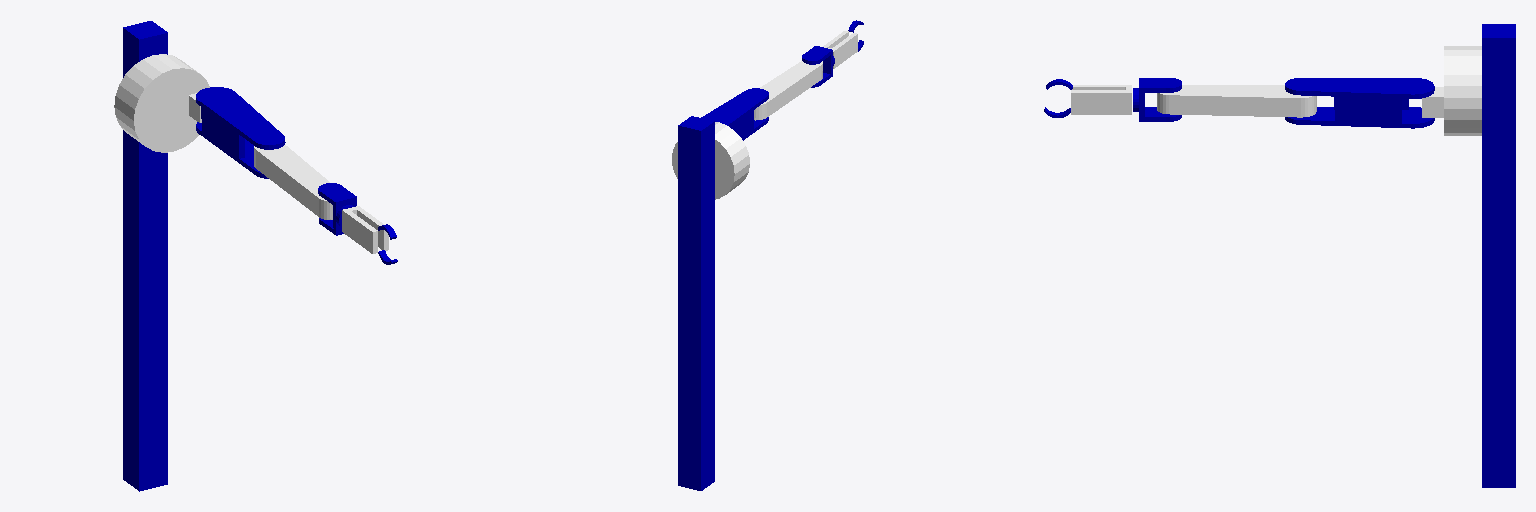
URDF robot description (my_arm):
<?xml version="1.0"?>
<robot name="my_arm">
  <property name="M_PI" value="3.1415926535897931" /> 
  <property name="cam_px" value="0.35" />
  <property name="cam_py" value="0.137" />
  <property name="cam_pz" value="0.1" />

  <material name="blue">
    <color rgba="0 0 .8 1"/>
  </material>
  <material name="black">
    <color rgba="0 0 0 1"/>
  </material>
  <material name="white">
    <color rgba="1 1 1 1"/>
  </material>

  <link name="world"/>

  <link name="support">
    <visual>
        <origin xyz="0 0 0.75" rpy="0 0 0"/>
	<geometry>
	  <box size="0.1 0.1 1.5"/>
	</geometry>
	<material name ="blue"/>
    </visual>
    <collision>
        <origin xyz="0 0 0.75" rpy="0 0 0"/>
	<geometry>
	  <box size="0.1 0.1 1.5"/>
	</geometry>
    </collision>
    <inertial>
      <mass value="0.001"/>
    <inertia ixx="0.01" ixy="0" ixz="0" iyy="0.01" iyz="0" izz="0.01"/>
    </inertial>
  </link>


  <link name="base">
    <visual>
      <origin xyz="0 0 0" rpy="0 0 0"/>
      <geometry>
        <mesh filename="package://my_arm/meshes/1.stl" scale="0.001 0.001 0.001"/>
      </geometry>
      <material name ="white"/>
    </visual>
    <collision>
      <origin xyz="0 0 0" rpy="0 0 0"/>
      <geometry>
        <mesh filename="package://my_arm/meshes/1.stl" scale="0.001 0.001 0.001"/>
      </geometry>
    </collision>
    <inertial>
      <origin rpy="0 0 0" xyz="0.004190989 0.00646279 0.063222557"/>
      <mass value="0.001"/>
    <inertia ixx="0.0125" ixy="0" ixz="0" iyy="0.009" iyz="0" izz="0.009"/>
    </inertial>
  </link>

  <link name="elbow_link">
    <visual>
      <origin xyz="-0.062 -0.051 0.014" rpy="0 0 0"/>
      <geometry>
        <mesh filename="package://my_arm/meshes/2.stl" scale="0.001 0.001 0.001"/>
      </geometry>
      <material name ="blue"/>
    </visual>
    <collision>
      <origin xyz="-0.062 -0.051 0.014" rpy="0 0 0"/>
      <geometry>
        <mesh filename="package://my_arm/meshes/2.stl" scale="0.001 0.001 0.001"/>
      </geometry>
    </collision>
    <inertial>
      <origin rpy="0 0 0" xyz="0.052649582 0.057137184 0.133373611"/>
      <mass value="0.001"/>
    <inertia ixx="0.029" ixy="0" ixz="0" iyy="0.03198" iyz="0" izz="0.220"/>
    </inertial>
  </link>

  <link name="wrist_link">
    <visual>
      <origin xyz="-0.001 -0.064 0" rpy="0 0 0"/>
      <geometry>
        <mesh filename="package://my_arm/meshes/3.stl" scale="0.001 0.001 0.001"/>
      </geometry>
      <material name ="white"/>
    </visual>
    <collision>
      <origin xyz="-0.001 -0.064 0" rpy="0 0 0"/>
      <geometry>
        <mesh filename="package://my_arm/meshes/3.stl" scale="0.001 0.001 0.001"/>
      </geometry>
    </collision>
    <inertial>
      <origin rpy="0 0 0" xyz="-0.008036790 0.031757582 0.188686127"/>
      <mass value="0.001"/>
    <inertia ixx="0.015" ixy="0" ixz="0" iyy="0.238481" iyz="0" izz="0.245072"/>
    </inertial>
  </link>

  <link name="hand_link">
    <visual>
      <origin xyz="-0.037 -0.001 0.092" rpy="0 0 0"/>
      <geometry>
        <mesh filename="package://my_arm/meshes/4.stl" scale="0.001 0.001 0.001"/>
      </geometry>
      <material name ="blue"/>
    </visual>
    <collision>
      <origin xyz="-0.037 -0.001 0.092" rpy="0 0 0"/>
      <geometry>
        <mesh filename="package://my_arm/meshes/4.stl" scale="0.001 0.001 0.001"/>
      </geometry>
    </collision>
    <inertial>
      <origin rpy="0 0 0" xyz="0.028896175 0.036595043 0.087612099"/>
      <mass value="0.001"/>
    <inertia ixx="0.01901" ixy="0" ixz="0" iyy="0.03497" iyz="0" izz="0.028442"/>
    </inertial>
  </link>

  <link name="gripper_link">
    <visual>
      <origin xyz="-0.03 -0.037 0" rpy="0 0 0"/>
      <geometry>
        <mesh filename="package://my_arm/meshes/5.stl" scale="0.001 0.001 0.001"/>
      </geometry>
      <material name ="white"/>
    </visual>
    <collision>
      <origin xyz="-0.03 -0.037 0" rpy="0 0 0"/>
      <geometry>
        <mesh filename="package://my_arm/meshes/5.stl" scale="0.001 0.001 0.001"/>
      </geometry>
    </collision>
    <inertial>
      <origin rpy="0 0 0" xyz="0.028896175 0.036595043 0.087612099"/>
      <mass value="0.0005"/>
    <inertia ixx="0.008693" ixy="0" ixz="0" iyy="0.039554" iyz="0" izz="0.037589"/>
    </inertial>
  </link>

  <link name="finger_link1">
    <visual>
      <origin xyz="0 0 0" rpy="0 0 0"/>
      <geometry>
        <mesh filename="package://my_arm/meshes/6.stl" scale="0.001 0.001 0.001"/>
      </geometry>
      <material name ="blue"/>
    </visual>
    <collision>
      <origin xyz="0 0 0" rpy="0 0 0"/>
      <geometry>
        <mesh filename="package://my_arm/meshes/6.stl" scale="0.001 0.001 0.001"/>
      </geometry>
    </collision>
    <inertial>
      <origin rpy="0 0 0" xyz="0.010424928 0.016705904 0.035355106"/>
      <mass value="0.0005"/>
    <inertia ixx="0.00125" ixy="0" ixz="0" iyy="0.007345" iyz="0" izz="0.007002"/>
    </inertial>
  </link>

  <link name="finger_link2">
    <visual>
      <origin xyz="0 0 0" rpy="0 0 0"/>
      <geometry>
        <mesh filename="package://my_arm/meshes/7.stl" scale="0.001 0.001 0.001"/>
      </geometry>
      <material name ="blue"/>
    </visual>
    <collision>
      <origin xyz="0 0 0" rpy="0 0 0"/>
      <geometry>
        <mesh filename="package://my_arm/meshes/7.stl" scale="0.001 0.001 0.001"/>
      </geometry>
    </collision>
    <inertial>
      <origin rpy="0 0 0" xyz="0.010432852 -0.009562554 0.039894608"/>
      <mass value="1"/>
    <inertia ixx="0.00125" ixy="0" ixz="0" iyy="0.007345" iyz="0" izz="0.007002"/>
    </inertial>
  </link>

  <link name="end">
    <inertial>
      <mass value="0.001"/>
    <inertia ixx="0.01" ixy="0" ixz="0" iyy="0.01" iyz="0" izz="0.01"/>
    </inertial>
  </link>

  <joint name="support_joint" type="fixed">
    <parent link="world" />
    <child link="support" />
    <origin xyz="0 0 0" rpy="0 0 0" />
    <axis xyz="0 0 1" />
  </joint>

  <joint name="base2base_joint" type="continuous">
    <parent link="support" />
    <child link="base" />
    <origin xyz="0 -0.05 1.3" rpy="1.5707963 0 0" />
    <axis xyz="0 0 1" />
  </joint>

  <joint name="base_joint" type="revolute">
    <parent link="base" />
    <child link="elbow_link" />
    <limit effort="30" velocity="1.0" lower="-1.570795" upper="1.570795" />
    <origin xyz="0.101 0 0.207" rpy="0 0 0" />
    <axis xyz="0 1 0" />
  </joint>

  <joint name="elbow_joint" type="revolute">
    <parent link="elbow_link" />
    <child link="wrist_link" />
    <limit effort="30" velocity="1.0" lower="-3.1415926" upper="3.1415926" />
    <origin xyz="-0.014 0.037 0.341" rpy="0 0 0" />
    <axis xyz="0 1 0" />
  </joint>

  <joint name="wrist_joint" type="revolute">
    <parent link="wrist_link" />
    <child link="hand_link" />
    <limit effort="30" velocity="1.0" lower="-3.1415926" upper="3.1415926" />
    <origin xyz="-0.015 -0.088 0.398" rpy="0 0 0" />
    <axis xyz="0 1 0" />
  </joint>

  <joint name="hand_joint" type="continuous">
    <parent link="hand_link" />
    <child link="gripper_link" />
    <limit effort="30" velocity="1.0" lower="-1.570795" upper="1.570795" />
    <origin xyz="0.0 0.056 0.113" rpy="0 0 0" />
    <axis xyz="0 0 1" />
  </joint>

  <joint name="end_joint" type="revolute">
    <parent link="gripper_link" />
    <child link="end" />
    <origin xyz="0 0 0.184" rpy="0 0 0" />
    <limit effort="30" velocity="1.0" lower="-1.570795" upper="1.570795" />
    <axis xyz="0 1 0" />
  </joint>

  <joint name="finger_joint1" type="revolute">
    <parent link="gripper_link" />
    <child link="finger_link1" />
    <limit effort="30" velocity="1.0" lower="-1.570795" upper="1.570795" />
    <origin xyz="-0.01 0.036 0.184" rpy="0 0 0" />
    <axis xyz="1 0 0" />
  </joint>

  <joint name="finger_joint2" type="revolute">
    <parent link="gripper_link" />
    <child link="finger_link2" />
    <limit effort="30" velocity="1.0" lower="-1.570795" upper="1.570795" />
    <origin xyz="-0.01 -0.037 0.184" rpy="0 0 0" />
    <axis xyz="1 0 0" />
  </joint>


  <transmission name="tran1">
    <type>transmission_interface/SimpleTransmission</type>
    <joint name="base2base_joint">
      <hardwareInterface>hardware_interface/PositionJointInterface</hardwareInterface>
    </joint>
    <actuator name="motor1">
      <mechanicalReduction>1</mechanicalReduction>
    </actuator>
  </transmission>

  <transmission name="tran2">
    <type>transmission_interface/SimpleTransmission</type>
    <joint name="base_joint">
      <hardwareInterface>hardware_interface/PositionJointInterface</hardwareInterface>
    </joint>
    <actuator name="motor2">
      <mechanicalReduction>1</mechanicalReduction>
    </actuator>
  </transmission>

  <transmission name="tran3">
    <type>transmission_interface/SimpleTransmission</type>
    <joint name="elbow_joint">
      <hardwareInterface>hardware_interface/PositionJointInterface</hardwareInterface>
    </joint>
    <actuator name="motor3">
      <mechanicalReduction>1</mechanicalReduction>
    </actuator>
  </transmission>

  <transmission name="tran4">
    <type>transmission_interface/SimpleTransmission</type>
    <joint name="wrist_joint">
      <hardwareInterface>hardware_interface/PositionJointInterface</hardwareInterface>
    </joint>
    <actuator name="motor4">
      <mechanicalReduction>1</mechanicalReduction>
    </actuator>
  </transmission>

  <transmission name="tran5">
    <type>transmission_interface/SimpleTransmission</type>
    <joint name="hand_joint">
      <hardwareInterface>hardware_interface/PositionJointInterface</hardwareInterface>
    </joint>
    <actuator name="motor5">
      <mechanicalReduction>1</mechanicalReduction>
    </actuator>
  </transmission>

  <transmission name="tran6">
    <type>transmission_interface/SimpleTransmission</type>
    <joint name="finger_joint1">
      <hardwareInterface>hardware_interface/PositionJointInterface</hardwareInterface>
    </joint>
    <actuator name="motor6">
      <mechanicalReduction>1</mechanicalReduction>
    </actuator>
  </transmission>

  <transmission name="tran7">
    <type>transmission_interface/SimpleTransmission</type>
    <joint name="finger_joint2">
      <hardwareInterface>hardware_interface/PositionJointInterface</hardwareInterface>
    </joint>
    <actuator name="motor7">
      <mechanicalReduction>1</mechanicalReduction>
    </actuator>
  </transmission>

  <transmission name="tran8">
    <type>transmission_interface/SimpleTransmission</type>
    <joint name="end_joint">
      <hardwareInterface>hardware_interface/PositionJointInterface</hardwareInterface>
    </joint>
    <actuator name="motor8">
      <mechanicalReduction>1</mechanicalReduction>
    </actuator>
  </transmission>
<gazebo>
  <plugin name="gazebo_ros_control" filename="libgazebo_ros_control.so">
  </plugin>
</gazebo>


<gazebo>
   <plugin name="gazebo_grasp_fix" filename="libgazebo_grasp_fix.so">
        <arm>
           <arm_name>my_arm</arm_name>
           <palm_link> gripper_link  </palm_link>
           <gripper_link> finger_link1 </gripper_link>
           <gripper_link> finger_link2 </gripper_link>
        </arm>
       <forces_angle_tolerance>100</forces_angle_tolerance>
       <update_rate>4</update_rate>
       <grip_count_threshold>4</grip_count_threshold>
       <max_grip_count>8</max_grip_count>
       <release_tolerance>0.005</release_tolerance>
       <disable_collisions_on_attach>false</disable_collisions_on_attach>
       <contact_topic>__default_topic__</contact_topic>
    </plugin>
</gazebo>

 
    <link name="camera_link">
    <visual>
     <origin xyz="0 0 0" rpy="0 0 0"/>
      <geometry>
       <mesh filename="package://my_arm/meshes/kinect.dae"/>
      </geometry>
    </visual>
	  <collision>
      <origin xyz="0.0 0.0 0.0" rpy="0 0 0"/>
	    <geometry>
	      <box size="0.07271 0.27794 0.073"/>
	    </geometry>
	  </collision>
    <inertial>
      <mass value="0.001" />
      <origin xyz="0 0 0" />
      <inertia ixx="0.0001" ixy="0.0" ixz="0.0"
               iyy="0.0001" iyz="0.0"
               izz="0.0001" />
    </inertial>
  </link>
  <joint name="camera_joint" type="fixed">
    <origin xyz="0 0 1.55" rpy="0 0 0"/>
    <parent link="world"/>
    <child link="camera_link"/>
  </joint> 	  
 
  <gazebo reference="camera_link">  
      <sensor name="camera" type="depth">
        <update_rate>20</update_rate>
        <camera>
          <horizontal_fov>1.047198</horizontal_fov>
          <image>
            <width>640</width>
            <height>480</height>
            <format>R8G8B8</format>
          </image>
          <clip>
            <near>0.05</near>
            <far>3</far>
          </clip>
        </camera>
        <plugin name="camera_plugin" filename="libgazebo_ros_openni_kinect.so">
          <baseline>0.2</baseline>
          <alwaysOn>true</alwaysOn>
          <!-- Keep this zero, update_rate in the parent <sensor> tag
            will control the frame rate. -->
          <updateRate>0.0</updateRate>
          <cameraName>camera_ir</cameraName>
          <imageTopicName>/camera/depth/image_raw</imageTopicName>
          <cameraInfoTopicName>/camera/depth/camera_info</cameraInfoTopicName>
          <depthImageTopicName>/camera/depth/image_raw</depthImageTopicName>
          <depthImageInfoTopicName>/camera/depth/camera_info</depthImageInfoTopicName>
          <pointCloudTopicName>/camera/depth/points</pointCloudTopicName>
          <frameName>camera_link</frameName>
          <pointCloudCutoff>0.05</pointCloudCutoff>
          <distortionK1>0</distortionK1>
          <distortionK2>0</distortionK2>
          <distortionK3>0</distortionK3>
          <distortionT1>0</distortionT1>
          <distortionT2>0</distortionT2>
          <CxPrime>0</CxPrime>
          <Cx>0</Cx>
          <Cy>0</Cy>
          <focalLength>0</focalLength>
          <hackBaseline>0</hackBaseline>
        </plugin>
      </sensor>
    </gazebo>

</robot>

--- Render facts (derived) ---
3 views of the same robot in one strip: view 1: azimuth 30°, elevation 25°; view 2: azimuth 150°, elevation 25°; view 3: azimuth 270°, elevation 25° (orthographic).
Robot: my_arm — 11 links, 10 joints (6 revolute, 2 continuous, 2 fixed); root link world; default pose: all joints at 0.
Links seen in each view (by area): view 1: support, base, elbow_link, wrist_link, gripper_link, hand_link; view 2: support, base, wrist_link, elbow_link, gripper_link, hand_link; view 3: support, elbow_link, wrist_link, base, gripper_link, hand_link.
Link boxes in pixels (bbox=[...]): support: bbox=[123, 21, 167, 491]; base: bbox=[114, 54, 209, 152]; elbow_link: bbox=[196, 87, 285, 178]; wrist_link: bbox=[254, 145, 332, 219]; gripper_link: bbox=[342, 206, 388, 253]; hand_link: bbox=[318, 183, 356, 235]; support: bbox=[678, 116, 714, 490]; base: bbox=[672, 122, 749, 199]; wrist_link: bbox=[754, 61, 822, 120]; elbow_link: bbox=[701, 88, 768, 140]; gripper_link: bbox=[823, 31, 857, 68]; hand_link: bbox=[802, 46, 834, 87]; support: bbox=[1482, 24, 1515, 487]; elbow_link: bbox=[1285, 78, 1434, 128]; wrist_link: bbox=[1157, 85, 1316, 117]; base: bbox=[1422, 46, 1481, 135]; gripper_link: bbox=[1071, 85, 1131, 114]; hand_link: bbox=[1133, 78, 1181, 121].
Bounding box of the posed robot: 0.3003 × 1.42 × 1.5 m (x, y, z).
7 mesh visuals loaded from 8 distinct referenced files (7 binary STL); not drawn: 1 (reference not matched to a file when rendering).